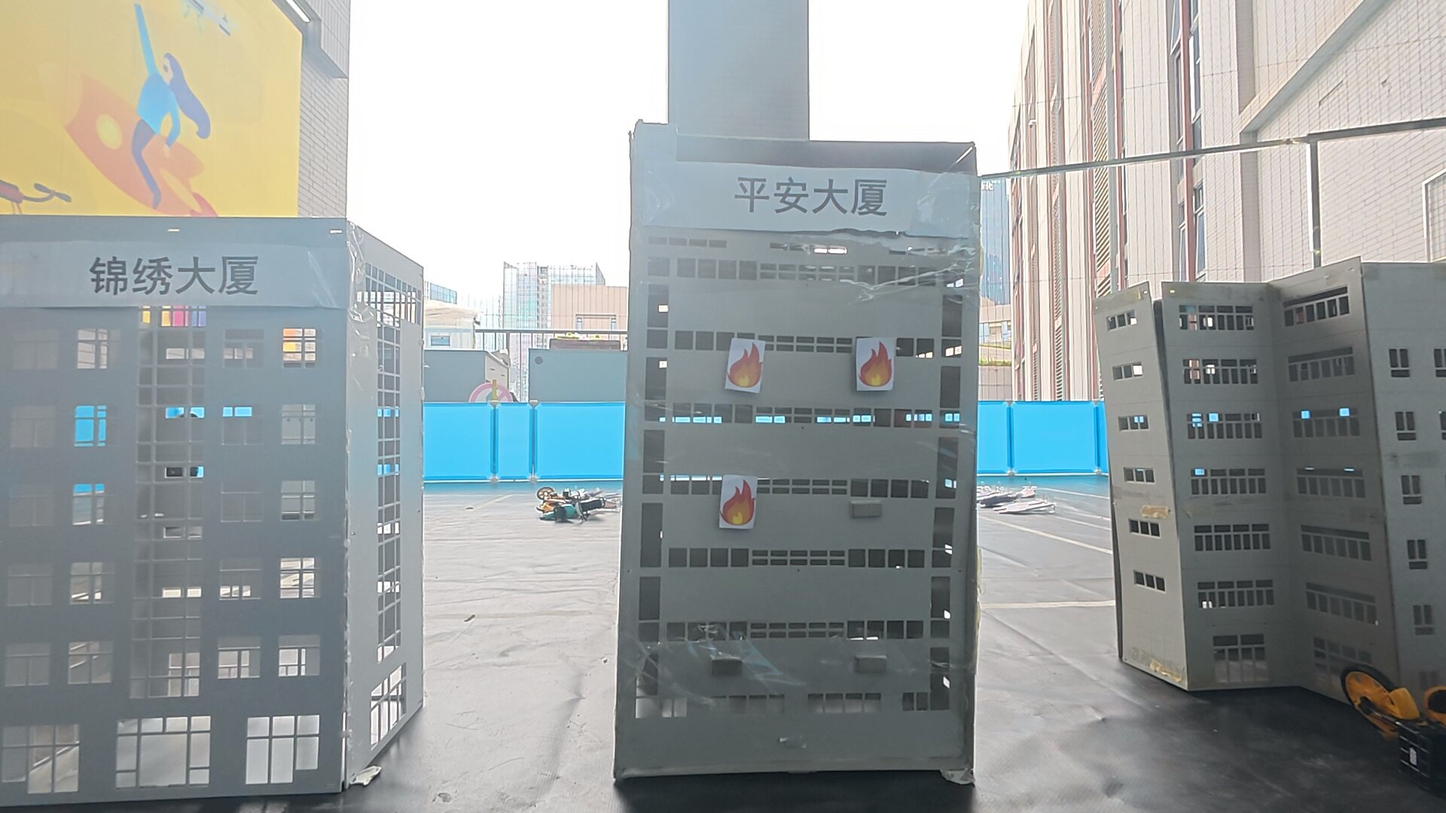fire: (856, 337, 899, 392), (719, 474, 761, 530), (727, 337, 768, 392)
